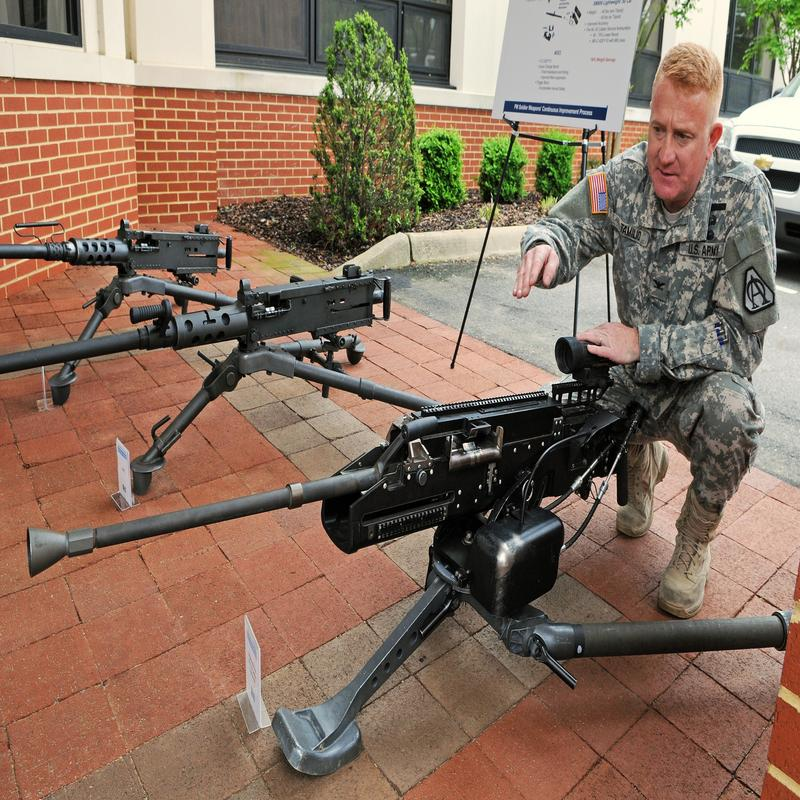GUN: (16, 309, 680, 766)
